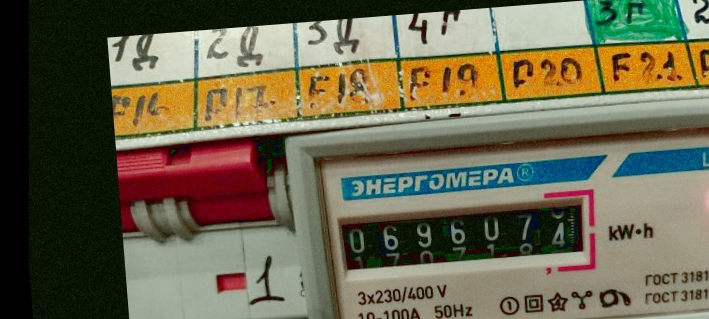0: (345, 225, 368, 255), (482, 212, 502, 242), (381, 223, 400, 250)
4: (548, 220, 568, 249)
6: (447, 214, 467, 246)
7: (515, 210, 535, 240)
9: (414, 219, 434, 248)
screen: (323, 184, 602, 289)
